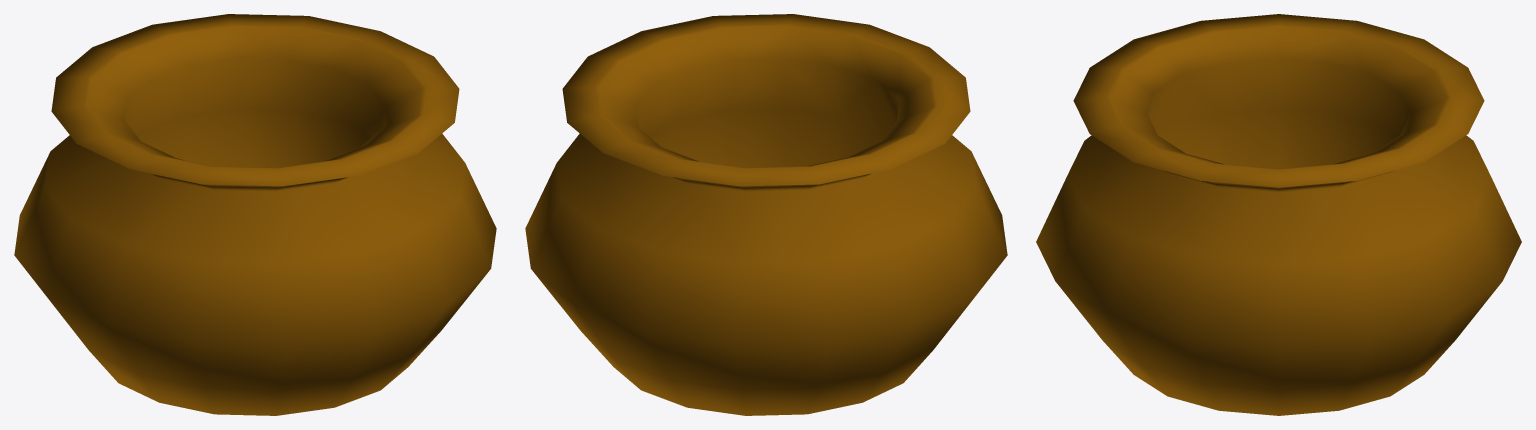
File: Jar_05.fbx
3 renders of one model, left to right at view 1: azimuth 30°, elevation 25°; view 2: azimuth 150°, elevation 25°; view 3: azimuth 270°, elevation 25°, orthographic.
Parts seen in each view (by area): view 1: Jar_05; view 2: Jar_05; view 3: Jar_05.
Part boxes in pixels (bbox=[...]): Jar_05: bbox=[14, 14, 496, 415]; Jar_05: bbox=[525, 14, 1007, 415]; Jar_05: bbox=[1036, 14, 1521, 415].
Size of the model in its own units: 41.83 by 23.99 by 41.83.
